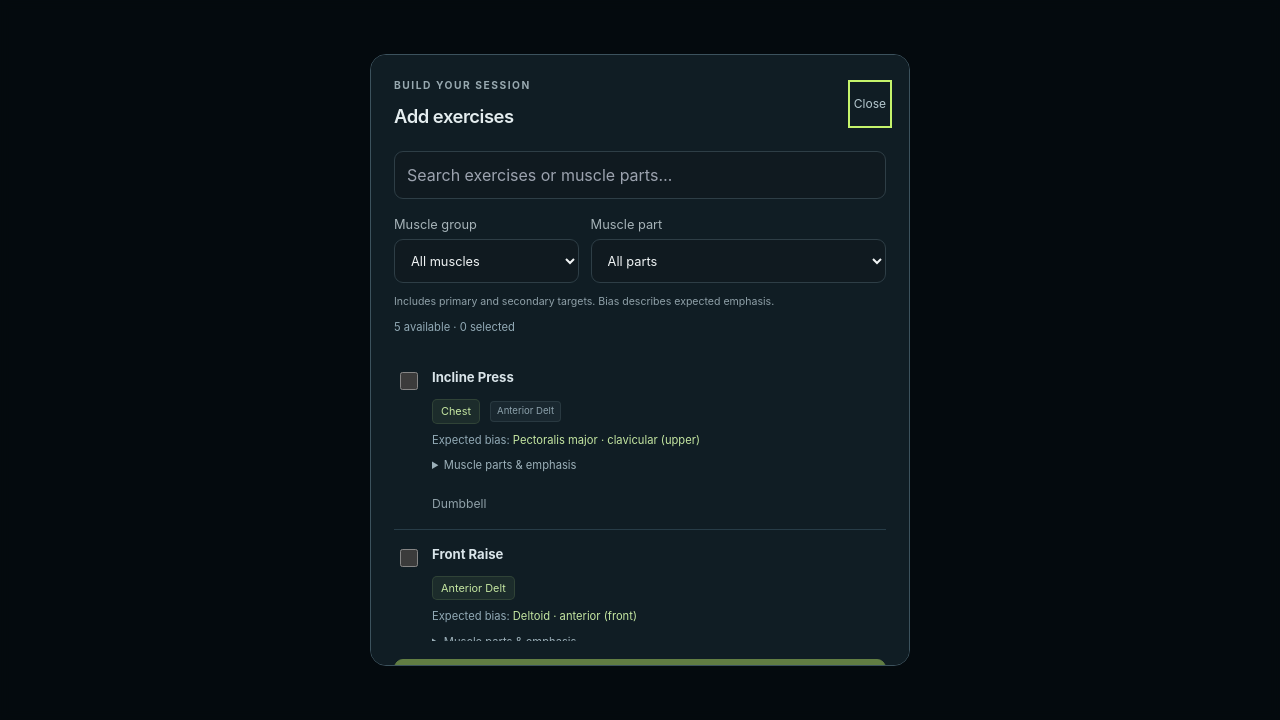
it: exercise muscle filtering › offers three delt groups and keeps unspecified legacy sets out of each head filter
Select "anterior delt" in the dropdown labelled "Muscle group" at (486, 261), box [394,239,579,283]
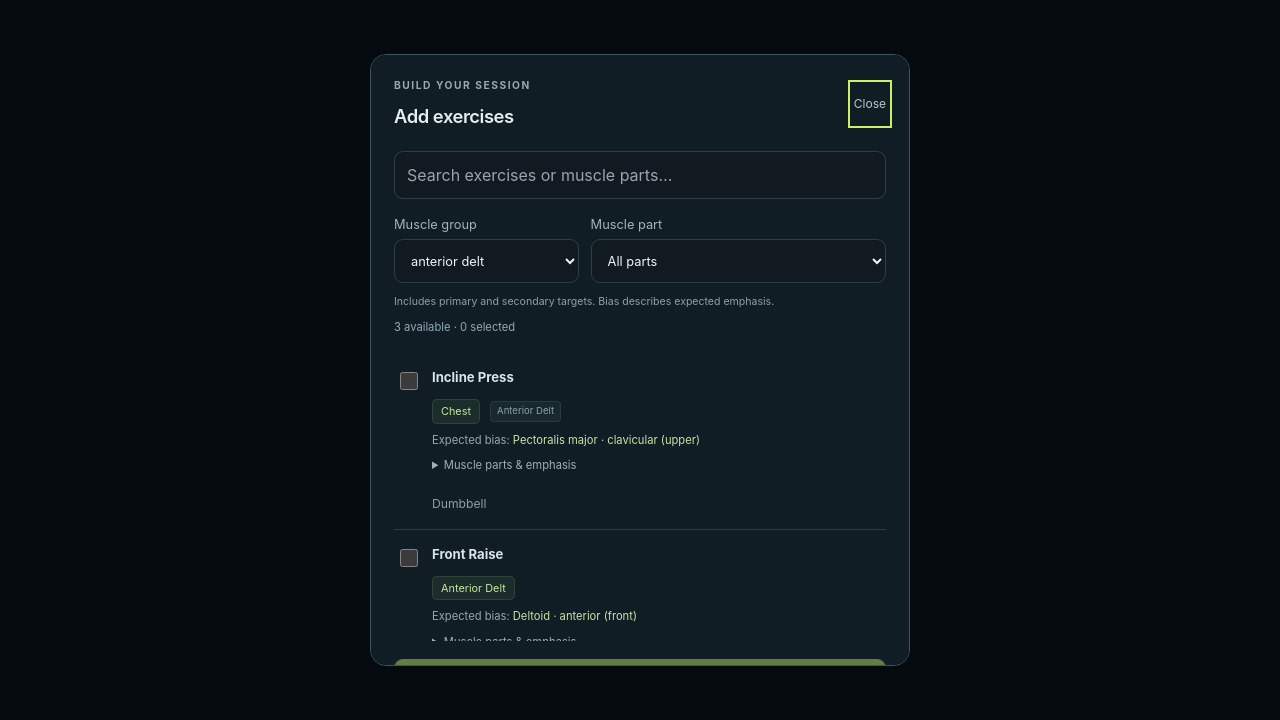
Select "lateral delt" in the dropdown labelled "Muscle group" at (486, 261), box [394,239,579,283]
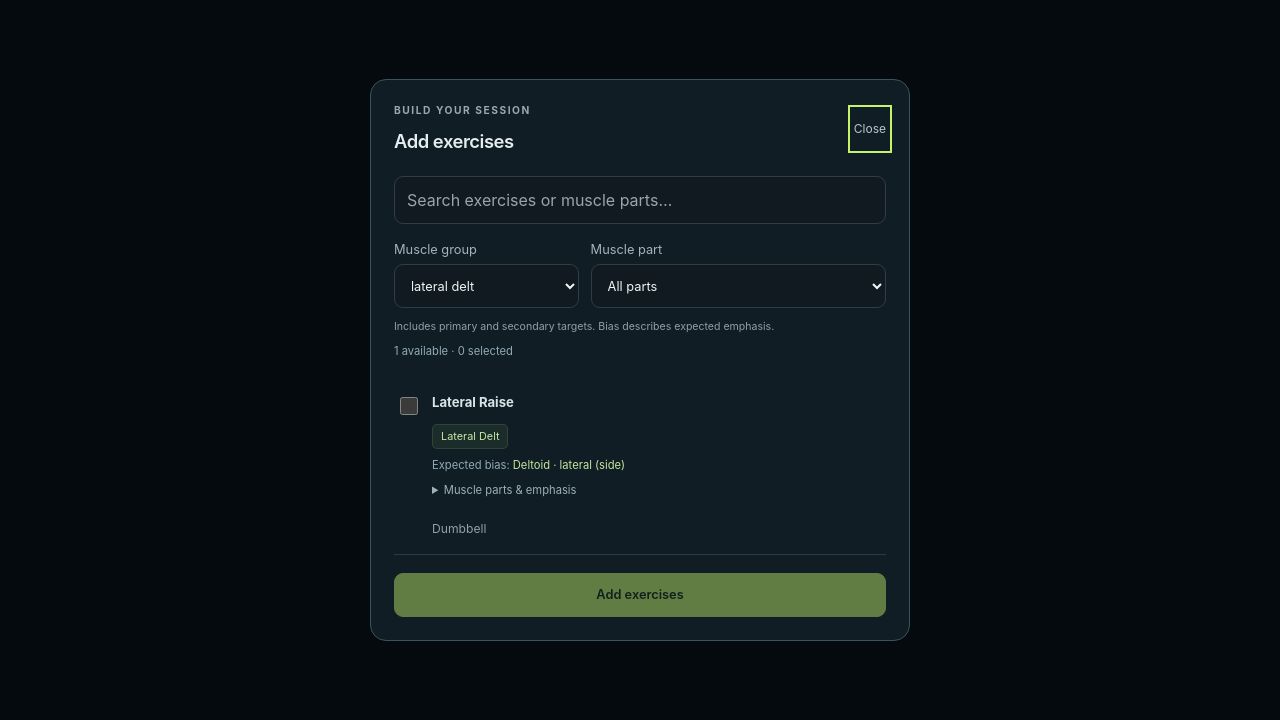
Select "posterior delt" in the dropdown labelled "Muscle group" at (486, 286), box [394,264,579,308]
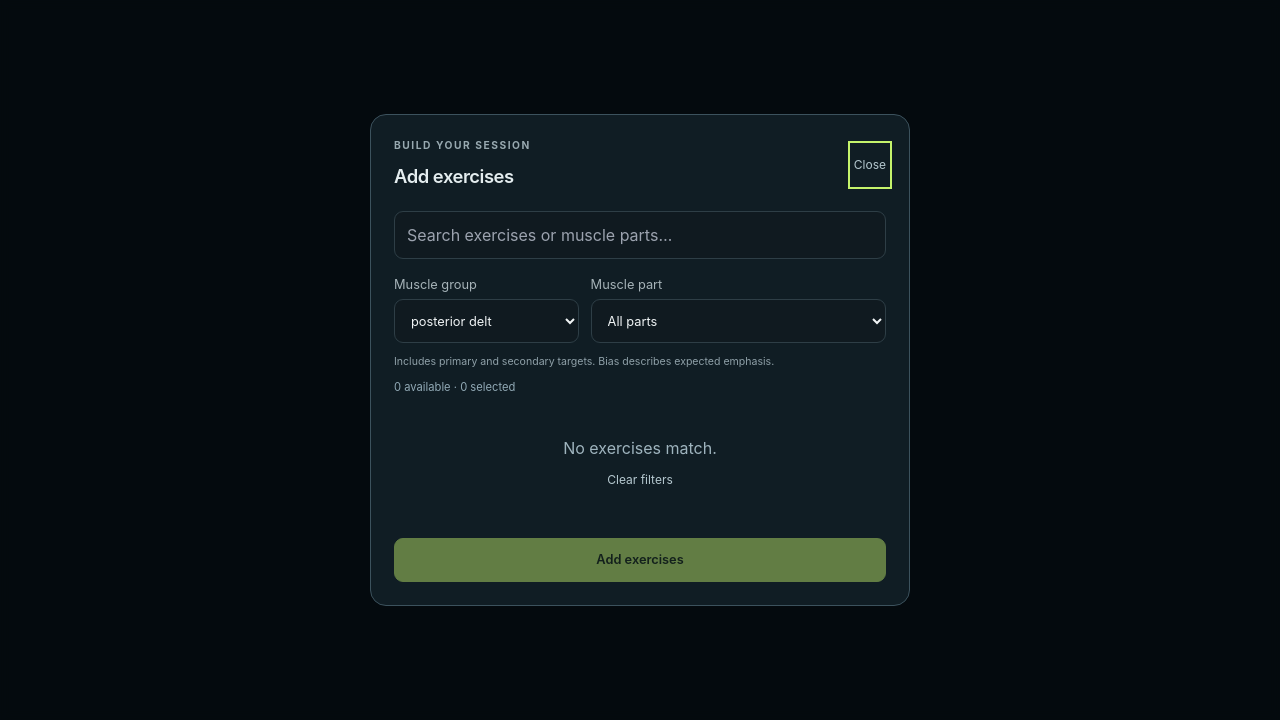
Select "lateral delt" in the dropdown labelled "Muscle group" at (486, 321), box [394,299,579,343]
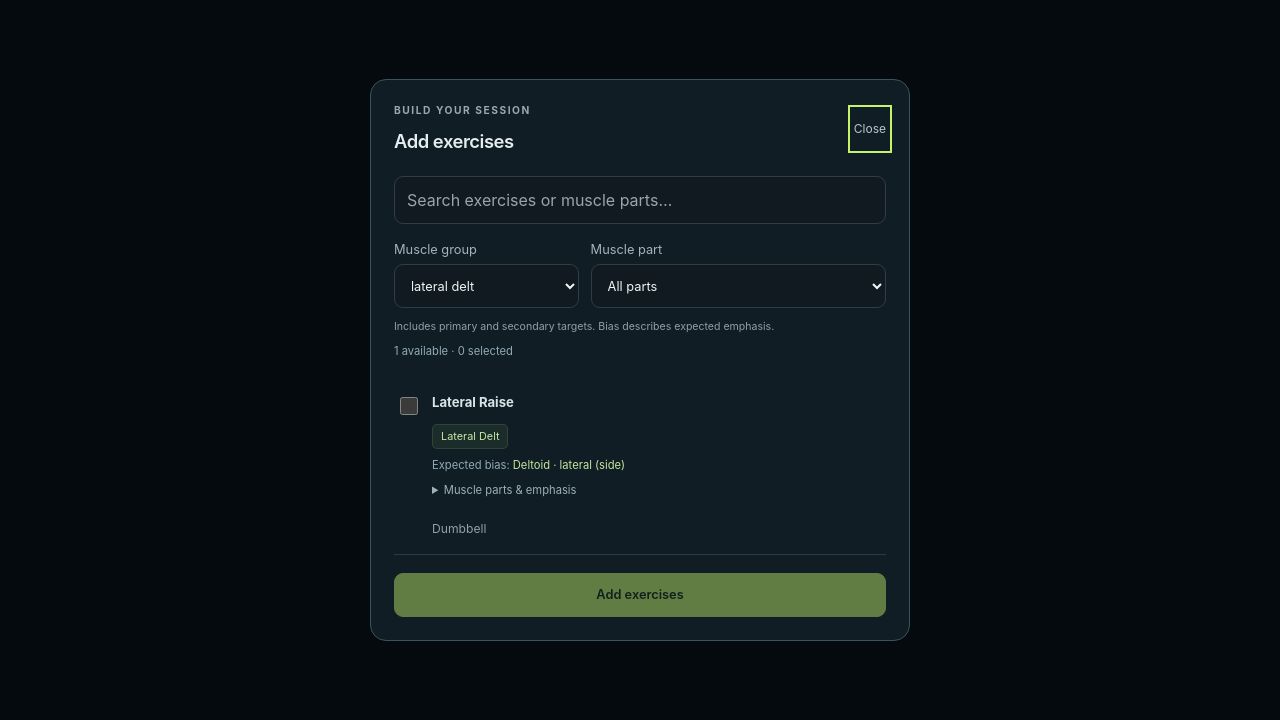
Expected: the number of checkboxes is 1, [400,397,418,415]
